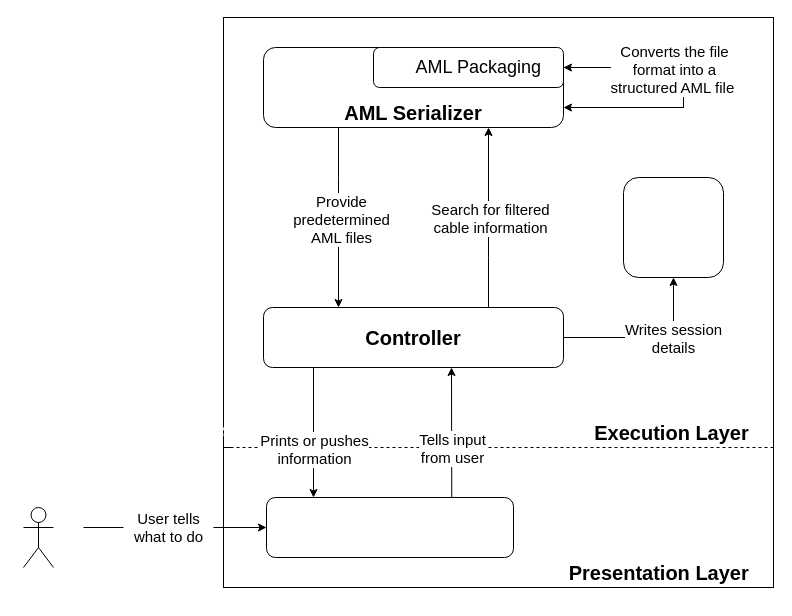
The diagram is 792 pixels wide and 616 high, and some of its shapes have lost their labels. The centre of each missing label's shape, as x and y in pixels:
Graphic User Interface: pixel 390 527
Logger: pixel 673 227
User: pixel 38 537
